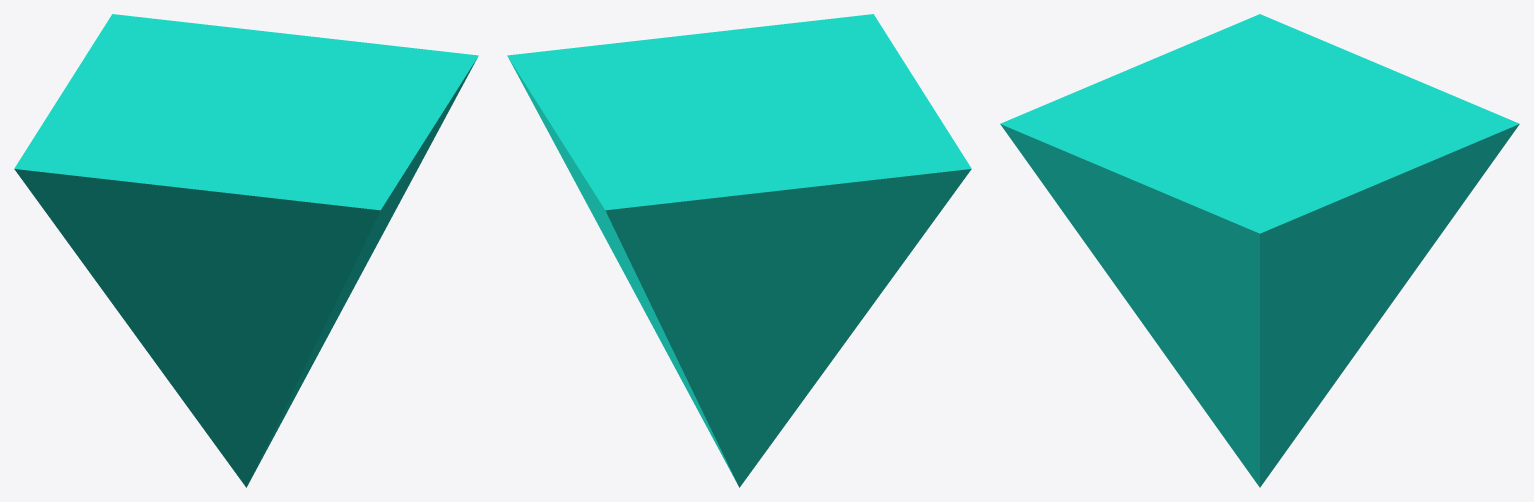
Rendered from interaction_arrow_v2.glb.
3 renders of one model, left to right at view 1: azimuth 30°, elevation 25°; view 2: azimuth 150°, elevation 25°; view 3: azimuth 270°, elevation 25°, orthographic. The views are drawn at different scales.
Parts seen in each view (by area): view 1: Cone; view 2: Cone; view 3: Cone.
Part boxes in pixels (x1,y1,x2,y2): Cone: (14,14,478,487); Cone: (507,14,971,487); Cone: (1000,14,1519,487).
Bounding box in the file's own units: 0.473 × 0.3655 × 0.473.
